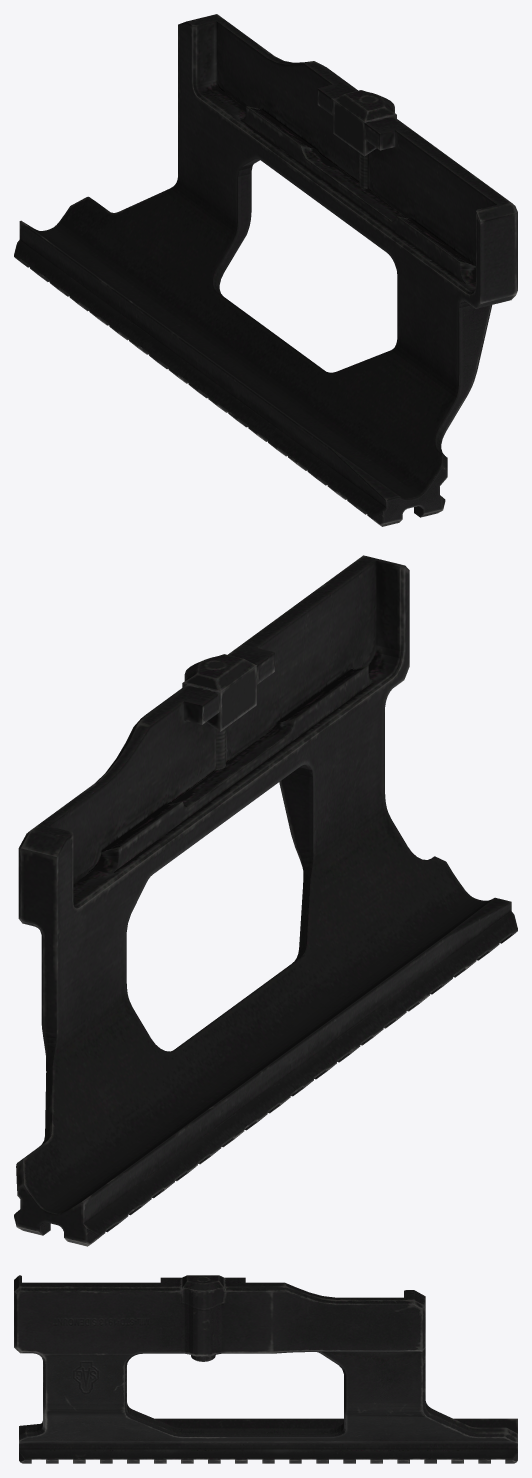
The picture shows the model from 3 angles, top to bottom: view 1: azimuth 30°, elevation 25°; view 2: azimuth 150°, elevation 25°; view 3: azimuth 270°, elevation 25°; orthographic projection. The views are drawn at different scales.
Parts seen in each view (by area): view 1: TW_63d114019e35b334d82302f7_PZ_Import; view 2: TW_63d114019e35b334d82302f7_PZ_Import; view 3: TW_63d114019e35b334d82302f7_PZ_Import.
Part boxes in pixels (bbox=[...]): TW_63d114019e35b334d82302f7_PZ_Import: bbox=[14, 14, 517, 526]; TW_63d114019e35b334d82302f7_PZ_Import: bbox=[14, 555, 517, 1246]; TW_63d114019e35b334d82302f7_PZ_Import: bbox=[14, 1275, 517, 1463].
Bounding box in the file's own units: 0.0251 × 0.1077 × 0.0484.
1 material, 1 textured.
